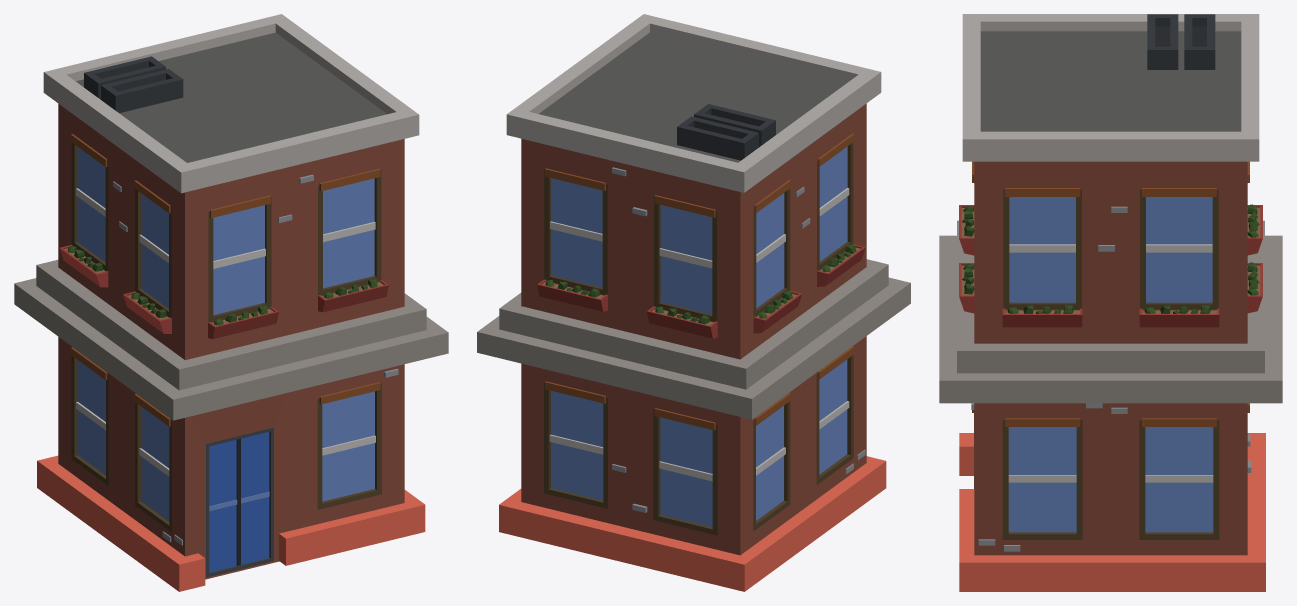
File: Building_5.fbx
3 renders of one model, left to right at view 1: azimuth 30°, elevation 25°; view 2: azimuth 150°, elevation 25°; view 3: azimuth 270°, elevation 25°, orthographic. The views are drawn at different scales.
Parts seen in each view (by area): view 1: Building_5; view 2: Building_5; view 3: Building_5.
Boxes of the visible parts, box(x1,y1,x2,y2) form: Building_5: box(14, 14, 448, 591); Building_5: box(477, 14, 910, 591); Building_5: box(939, 14, 1282, 591).
Bounding box in the file's own units: 610 × 904 × 610.
